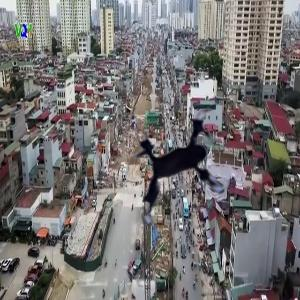drone: (112, 97, 262, 247)
